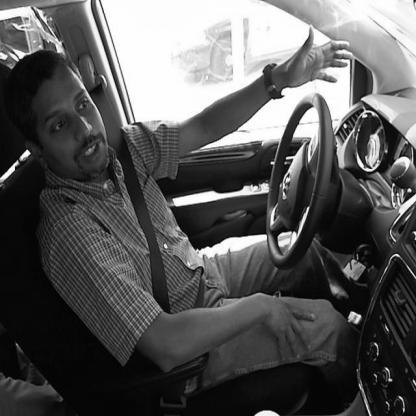seatbelt: (24, 44, 185, 299)
